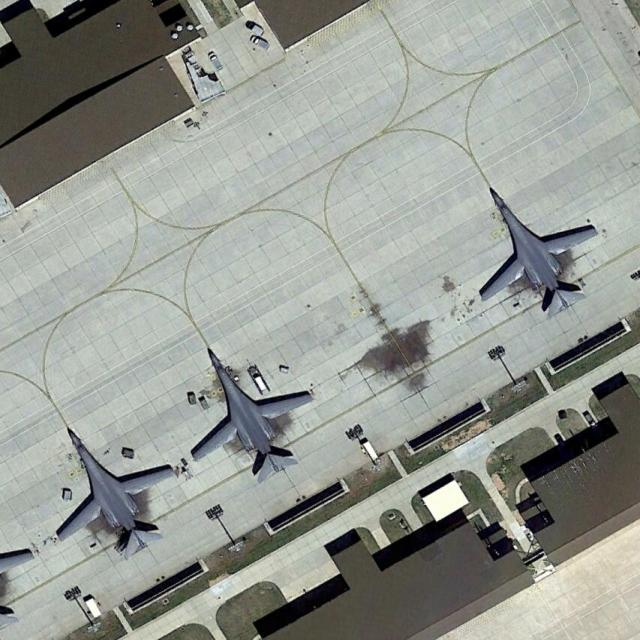fighter jet: (473, 182, 596, 314), (185, 345, 301, 471), (47, 421, 156, 552)
